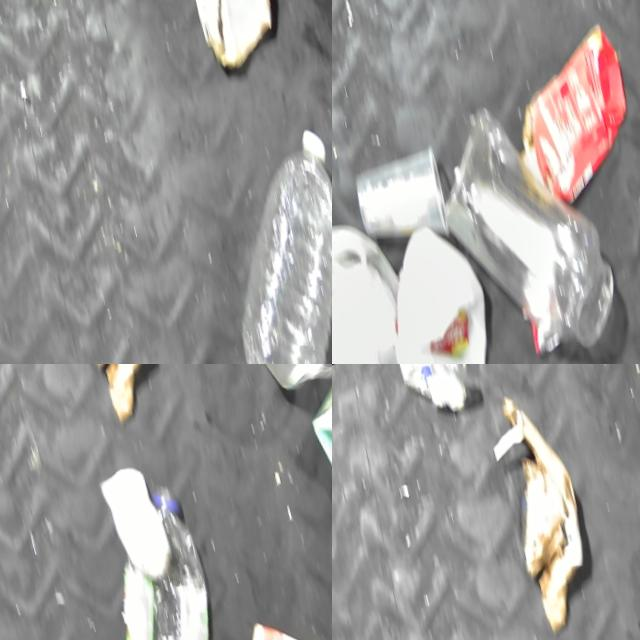can: (350, 141, 463, 271)
milk_jug: (363, 210, 526, 364), (332, 210, 441, 364)
non_white_jug: (493, 19, 640, 209)
plastic_bottle: (419, 71, 638, 364), (189, 123, 332, 364), (94, 482, 249, 640)
